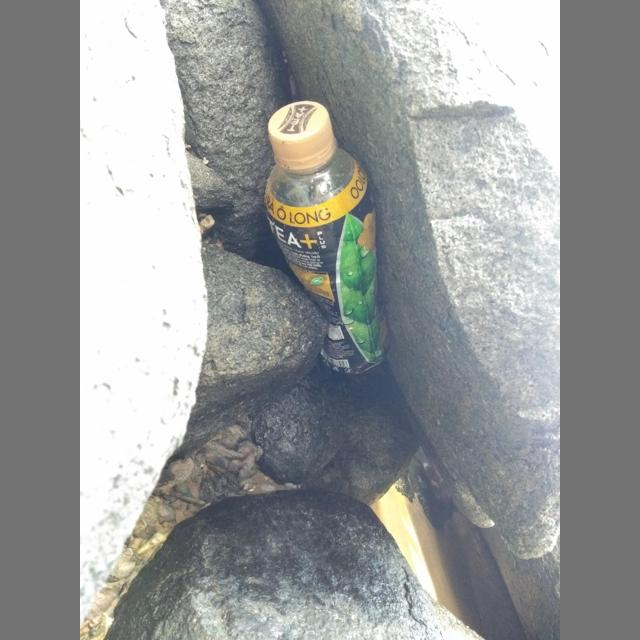litter: (264, 101, 391, 374), (268, 101, 335, 162)
